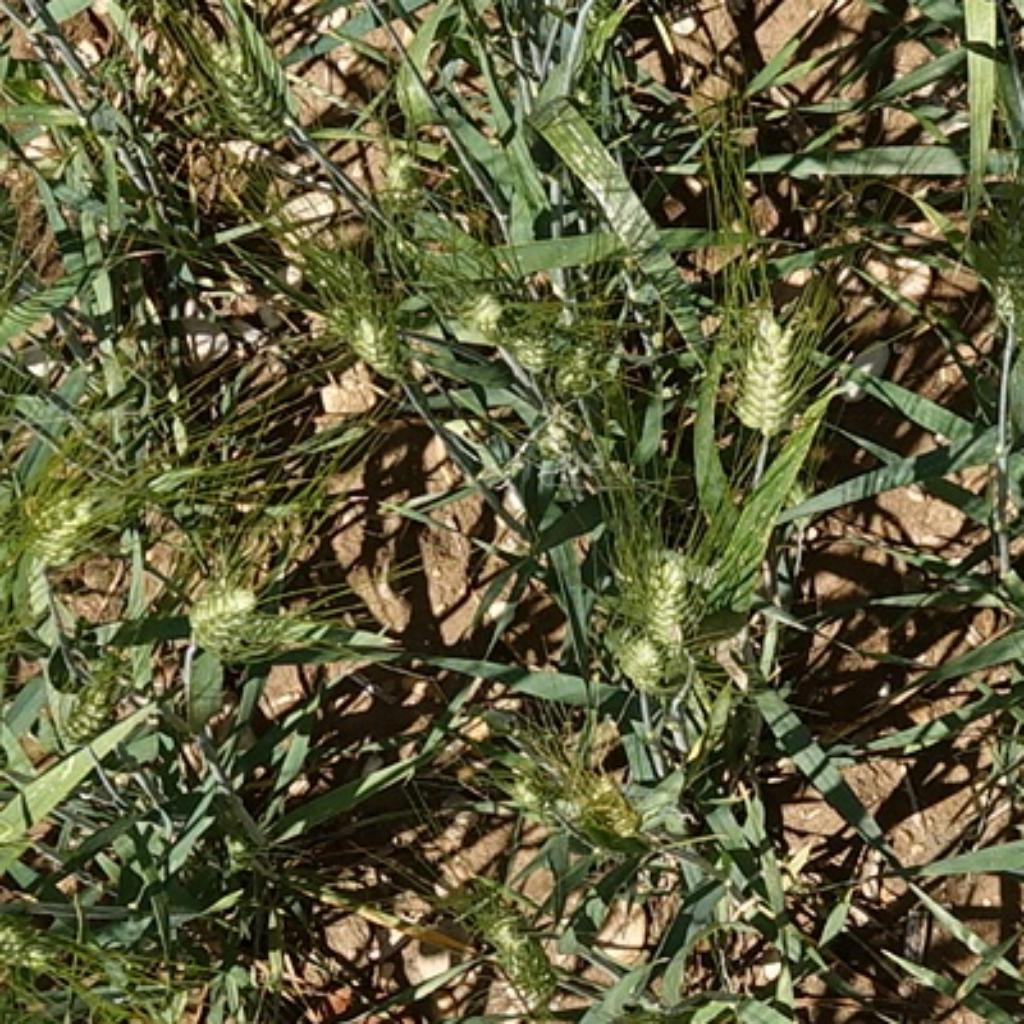0-0: (2, 491, 107, 652), (601, 517, 719, 647), (184, 23, 307, 145), (468, 883, 583, 1011), (719, 291, 814, 437), (550, 755, 657, 848), (176, 560, 284, 652), (46, 634, 138, 742), (964, 161, 1024, 325), (337, 292, 418, 383), (509, 407, 604, 481), (599, 614, 678, 686), (507, 285, 563, 380), (546, 326, 604, 396), (0, 912, 64, 972), (460, 272, 513, 338)
